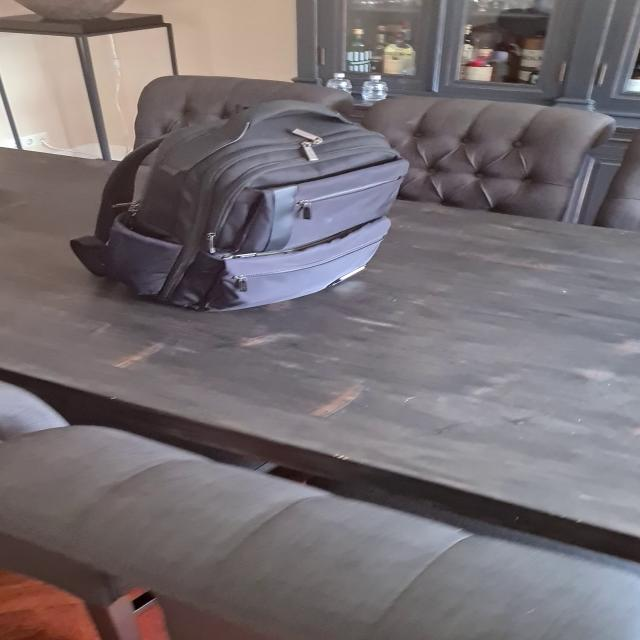backpack: (74, 97, 418, 314)
